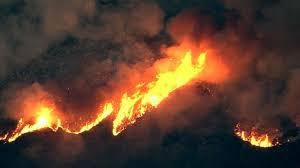fire: (13, 23, 217, 139), (234, 121, 279, 147)
